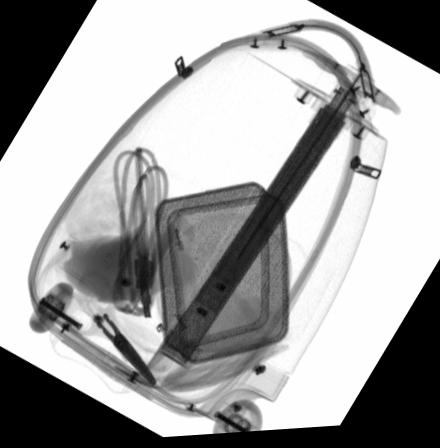Scissors: (51, 266, 160, 389)
